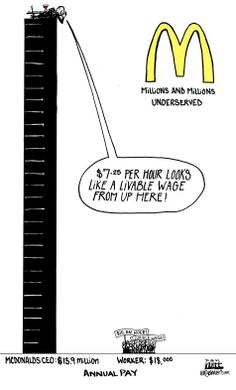mcdonalds: (143, 21, 214, 83)
